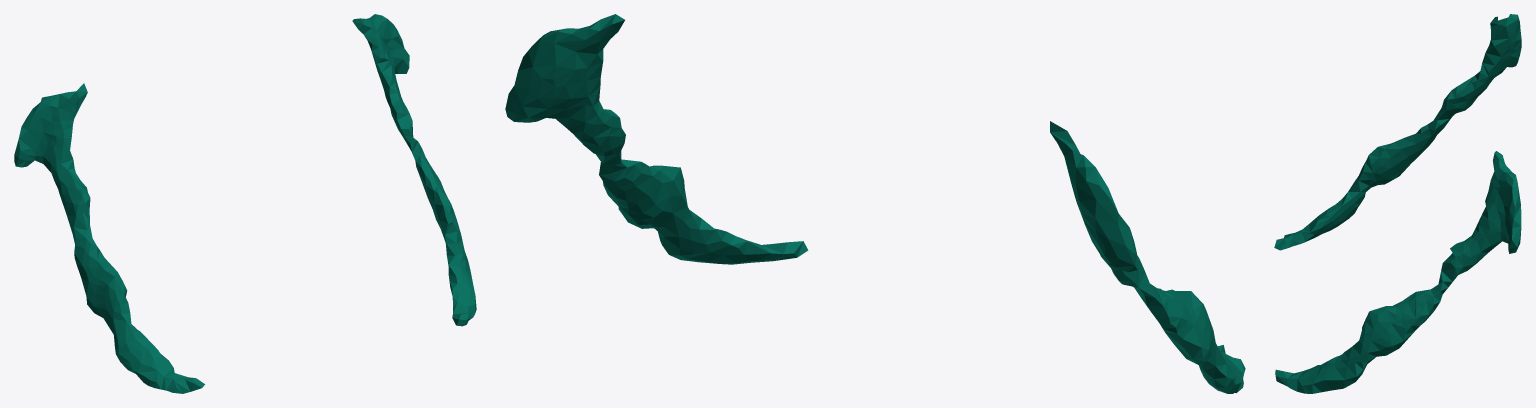
Rendered from 78-S-subiculum-('0.0000', '0.4980', '0.4196').obj.
3 renders of one model, left to right at view 1: azimuth 30°, elevation 25°; view 2: azimuth 150°, elevation 25°; view 3: azimuth 270°, elevation 25°, orthographic. The views are drawn at different scales.
Bounding box in the file's own units: 179 × 100 × 96.43.
